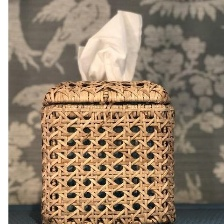tissue: (73, 5, 150, 85)
